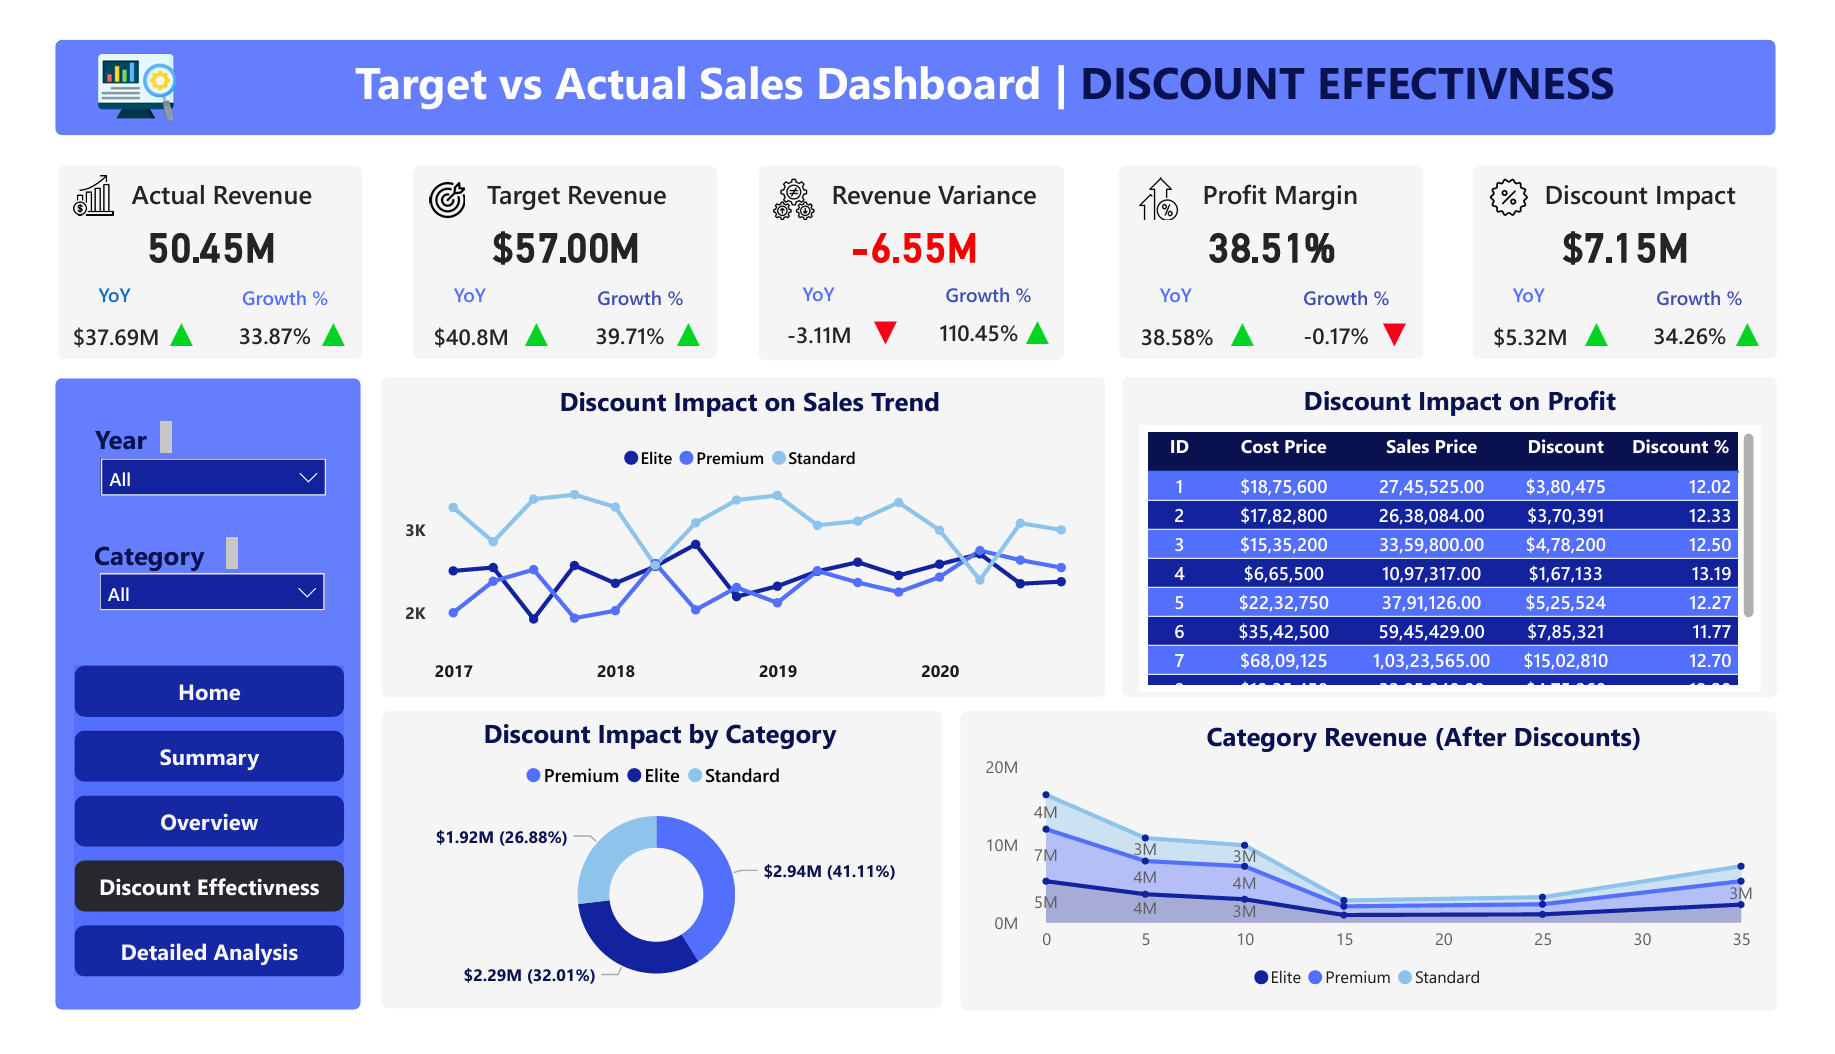

The dashboard page shown, as its layout file describes it:
{"tool":"powerbi","page":{"name":"Discount Effectivness","canvas":[1280,720],"ordinal":3},"visuals":[{"type":"shape","box":[15.9,7.2,1245.1,69.3],"z":0},{"type":"shape","box":[18.2,98.1,220,140],"z":0,"group":"g1"},{"type":"shape","box":[275,98.1,220,140],"z":0,"group":"g2"},{"type":"shape","box":[785.8,98.1,220,140],"z":0,"group":"g3"},{"type":"card","fields":{"Values":["Calculation_col.Actual Sales"]},"box":[54.3,132.7,148.6,46.2],"z":1000,"group":"g1"},{"type":"card","fields":{"Values":["Calculation_col.Target Sales"]},"box":[311.1,132.7,148.6,46.2],"z":1000,"group":"g2"},{"type":"card","fields":{"Values":["Calculation_col.Profit Margin"]},"box":[821.9,132.7,148.6,46.2],"z":1000,"group":"g3"},{"type":"shape","box":[16.2,252.1,220.7,457.4],"z":1000},{"type":"textbox","box":[62.9,101,147.2,34.6],"z":2000,"group":"g1"},{"type":"textbox","box":[319.7,101,147.2,34.6],"z":2000,"group":"g2"},{"type":"textbox","box":[829.1,101,147.2,34.6],"z":2000,"group":"g3"},{"type":"textbox","box":[30.3,277.9,75,34.6],"z":2000},{"type":"card","fields":{"Values":["Calculation_col.YoY Sales"]},"box":[18.2,209.2,83.7,30.3],"z":3000,"group":"g1"},{"type":"card","fields":{"Values":["Calculation_col.YoY Target Sales"]},"box":[275,209.2,83.7,30.3],"z":3000,"group":"g2"},{"type":"card","fields":{"Values":["Calculation_col.YoY Profit M"]},"box":[785.8,209.2,83.7,30.3],"z":3000,"group":"g3"},{"type":"textbox","box":[23.1,361.7,129.8,34.6],"z":3000},{"type":"shape","box":[1041.7,98.1,220,140],"z":4000},{"type":"card","fields":{"Values":["Calculation_col.YoY Growth Sales %"]},"box":[133.6,209.2,83.7,27.4],"z":4000,"group":"g1"},{"type":"card","fields":{"Values":["Calculation_col.YoY Target Growth Sales %"]},"box":[390.4,209.2,83.7,27.4],"z":4000,"group":"g2"},{"type":"card","fields":{"Values":["Calculation_col.YoY profit m growth %"]},"box":[901.2,209.2,83.7,27.4],"z":4000,"group":"g3"},{"type":"textbox","box":[19.6,177.5,79.4,31.7],"z":5000,"group":"g1"},{"type":"textbox","box":[276.4,177.5,79.4,31.7],"z":5000,"group":"g2"},{"type":"textbox","box":[787.2,177.5,79.4,31.7],"z":5000,"group":"g3"},{"type":"shape","box":[670.9,493.4,591.5,216.4],"z":5000},{"type":"textbox","box":[137.9,178.9,89.5,31.7],"z":6000,"group":"g1"},{"type":"textbox","box":[394.7,178.9,89.5,31.7],"z":6000,"group":"g2"},{"type":"textbox","box":[905.5,178.9,89.5,31.7],"z":6000,"group":"g3"},{"type":"shape","box":[252.5,251,523.7,232.3],"z":6000},{"type":"shape","box":[525.2,98.1,220.7,141.4],"z":7000},{"type":"card","fields":{"Values":["Calculation_col.Sales_icon"]},"box":[86,203.4,43.3,34.6],"z":7000,"group":"g1"},{"type":"card","fields":{"Values":["Calculation_col.Target 1_icon"]},"box":[342.8,203.4,43.3,34.6],"z":7000,"group":"g2"},{"type":"card","fields":{"Values":["Calculation_col.PM YoY 1"]},"box":[853.6,203.4,43.3,34.6],"z":7000,"group":"g3"},{"type":"card","fields":{"Values":["Calculation_col.Discount Impact"]},"box":[1077.7,132.7,148.6,46.2],"z":8000},{"type":"card","fields":{"Values":["Calculation_col.Sales_2 icon"]},"box":[195.7,203.4,43.3,34.6],"z":8000,"group":"g1"},{"type":"card","fields":{"Values":["Calculation_col.Target 2_icon"]},"box":[452.5,203.4,43.3,34.6],"z":8000,"group":"g2"},{"type":"card","fields":{"Values":["Calculation_col.PM YoY 2"]},"box":[963.3,203.4,43.3,34.6],"z":8000,"group":"g3"},{"type":"textbox","box":[228,10.1,1051.8,73.6],"z":9000},{"type":"card","fields":{"Values":["Calculation_col.Sales Varience"]},"box":[562.7,132.7,148.6,46.2],"z":10000},{"type":"textbox","box":[559.8,101,178.9,39],"z":11000},{"type":"textbox","box":[1082.1,101,161.6,34.6],"z":12000},{"type":"card","fields":{"Values":["Calculation_col.YoY Sales Variance"]},"box":[527.2,207.3,83.7,30.3],"z":13000},{"type":"card","fields":{"Values":["Calculation_col.YoY Discount"]},"box":[1041.7,209.2,83.7,30.3],"z":14000},{"type":"group","id":"g1","title":"Group 1","box":[18.2,98.1,220.7,141.4],"z":15000},{"type":"card","fields":{"Values":["Calculation_col.YoY Discount Growth %"]},"box":[1157.1,209.2,83.7,27.4],"z":16000},{"type":"card","fields":{"Values":["Calculation_col.YoY Sales Variance %"]},"box":[642.6,207.3,83.7,27.4],"z":17000},{"type":"textbox","box":[1043.1,177.5,79.4,31.7],"z":18000},{"type":"group","id":"g2","title":"Group 1","box":[275,98.1,220.7,141.4],"z":19000},{"type":"textbox","box":[1161.4,178.9,89.5,31.7],"z":20000},{"type":"textbox","box":[528.6,175.6,79.4,31.7],"z":21000},{"type":"card","fields":{"Values":["Calculation_col.Discount 1_icon"]},"box":[1109.5,203.4,43.3,34.6],"z":22000},{"type":"card","fields":{"Values":["Calculation_col.Discount 2_icon"]},"box":[1219.1,203.4,43.3,34.6],"z":23000},{"type":"textbox","box":[646.9,177,89.5,31.7],"z":24000},{"type":"card","fields":{"Values":["Calculation_col.Variance 2_icon"]},"box":[704.6,201.5,43.3,34.6],"z":25000},{"type":"card","fields":{"Values":["Calculation_col.VAriance 1_icon"]},"box":[595,201.5,43.3,34.6],"z":26000},{"type":"group","id":"g3","title":"Group 1","box":[785.8,98.1,220.7,141.4],"z":27000},{"type":"shape","box":[252.5,493.4,405.4,215],"z":28000},{"type":"pageNavigator","box":[30.3,460.2,194.8,225.1],"z":29000},{"type":"slicer","fields":{"Values":["Dim_product_detail.Product_Category"]},"box":[37.5,383.3,183.2,41.8],"z":30000},{"type":"slicer","fields":{"Values":["Calender.Year"]},"box":[39,300.3,183.2,41.8],"z":31000},{"type":"image","box":[1046,101,43.3,40.4],"z":32000},{"type":"image","box":[789.2,102.4,50.5,40.4],"z":33000},{"type":"image","box":[14.4,99.6,57.7,39],"z":34000},{"type":"image","box":[279.9,105.3,39,36.1],"z":35000},{"type":"image","box":[526.6,102.4,47.6,40.4],"z":36000},{"type":"stackedAreaChart","fields":{"Category":["fact_actual_sales.discount_percent"],"Y":["Calculation_col.Actual Sales"],"Series":["Dim_product_detail.Product_Category"]},"box":[683.9,519.4,567,184.7],"z":37000},{"type":"lineChart","fields":{"Series":["Dim_product_detail.Product_Category"],"Category":["Calender.Date.Variation.Date Hierarchy.Year","Calender.Date.Variation.Date Hierarchy.Quarter"],"Y":["Sum(fact_actual_sales.discount_percent)"]},"box":[264,290,499.2,191.9],"z":38000},{"type":"shape","box":[787.7,251,474.7,232.3],"z":39000},{"type":"tableEx","fields":{"Values":["Dim_product_detail.Product_Id","Calculation_col.Actual Cost","Calculation_col.Actual Sales","Calculation_col.Discount Impact","Calculation_col.Avg Discount %"]},"box":[800.7,285.7,450.1,193.3],"z":40000},{"type":"donutChart","fields":{"Y":["Calculation_col.Discount Impact"],"Category":["Dim_product_detail.Product_Category"]},"box":[262.6,519.4,376.6,184.7],"z":41000},{"type":"textbox","box":[326.1,251,385.2,40.4],"z":42000},{"type":"textbox","box":[839.7,249.6,385.2,40.4],"z":43000},{"type":"textbox","box":[261.1,490.5,385.2,40.4],"z":44000},{"type":"textbox","box":[813.7,493.4,385.2,40.4],"z":45000},{"type":"image","box":[0,7.2,150,69.3],"z":47000}]}

Visuals, with their boxes in screenshot pixels (x1, y1, x2, y2), scaled from the page's 1280x720 canvas onto the 1835x1054 screenshot:
shape: Rect(23, 11, 1808, 112)
shape: Rect(26, 144, 341, 349)
shape: Rect(394, 144, 710, 349)
shape: Rect(1127, 144, 1442, 349)
card - Calculation_col.Actual Sales: Rect(78, 194, 291, 262)
card - Calculation_col.Target Sales: Rect(446, 194, 659, 262)
card - Calculation_col.Profit Margin: Rect(1178, 194, 1391, 262)
shape: Rect(23, 369, 340, 1039)
textbox: Rect(90, 148, 301, 199)
textbox: Rect(458, 148, 669, 199)
textbox: Rect(1189, 148, 1400, 199)
textbox: Rect(43, 407, 151, 457)
card - Calculation_col.YoY Sales: Rect(26, 306, 146, 351)
card - Calculation_col.YoY Target Sales: Rect(394, 306, 514, 351)
card - Calculation_col.YoY Profit M: Rect(1127, 306, 1247, 351)
textbox: Rect(33, 529, 219, 580)
shape: Rect(1493, 144, 1809, 349)
card - Calculation_col.YoY Growth Sales %: Rect(192, 306, 312, 346)
card - Calculation_col.YoY Target Growth Sales %: Rect(560, 306, 680, 346)
card - Calculation_col.YoY profit m growth %: Rect(1292, 306, 1412, 346)
textbox: Rect(28, 260, 142, 306)
textbox: Rect(396, 260, 510, 306)
textbox: Rect(1129, 260, 1242, 306)
shape: Rect(962, 722, 1810, 1039)
textbox: Rect(198, 262, 326, 308)
textbox: Rect(566, 262, 694, 308)
textbox: Rect(1298, 262, 1426, 308)
shape: Rect(362, 367, 1113, 707)
shape: Rect(753, 144, 1069, 351)
card - Calculation_col.Sales_icon: Rect(123, 298, 185, 348)
card - Calculation_col.Target 1_icon: Rect(491, 298, 554, 348)
card - Calculation_col.PM YoY 1: Rect(1224, 298, 1286, 348)
card - Calculation_col.Discount Impact: Rect(1545, 194, 1758, 262)
card - Calculation_col.Sales_2 icon: Rect(281, 298, 343, 348)
card - Calculation_col.Target 2_icon: Rect(649, 298, 711, 348)
card - Calculation_col.PM YoY 2: Rect(1381, 298, 1443, 348)
textbox: Rect(327, 15, 1834, 123)
card - Calculation_col.Sales Varience: Rect(807, 194, 1020, 262)
textbox: Rect(803, 148, 1059, 205)
textbox: Rect(1551, 148, 1783, 199)
card - Calculation_col.YoY Sales Variance: Rect(756, 303, 876, 348)
card - Calculation_col.YoY Discount: Rect(1493, 306, 1613, 351)
"Group 1" group: Rect(26, 144, 342, 351)
card - Calculation_col.YoY Discount Growth %: Rect(1659, 306, 1779, 346)
card - Calculation_col.YoY Sales Variance %: Rect(921, 303, 1041, 344)
textbox: Rect(1495, 260, 1609, 306)
"Group 1" group: Rect(394, 144, 711, 351)
textbox: Rect(1665, 262, 1793, 308)
textbox: Rect(758, 257, 872, 303)
card - Calculation_col.Discount 1_icon: Rect(1591, 298, 1653, 348)
card - Calculation_col.Discount 2_icon: Rect(1748, 298, 1810, 348)
textbox: Rect(927, 259, 1056, 306)
card - Calculation_col.Variance 2_icon: Rect(1010, 295, 1072, 346)
card - Calculation_col.VAriance 1_icon: Rect(853, 295, 915, 346)
"Group 1" group: Rect(1127, 144, 1443, 351)
shape: Rect(362, 722, 943, 1037)
pageNavigator: Rect(43, 674, 323, 1003)
slicer - Dim_product_detail.Product_Category: Rect(54, 561, 316, 622)
slicer - Calender.Year: Rect(56, 440, 319, 501)
image: Rect(1500, 148, 1562, 207)
image: Rect(1131, 150, 1204, 209)
image: Rect(21, 146, 103, 203)
image: Rect(401, 154, 457, 207)
image: Rect(755, 150, 823, 209)
stackedAreaChart - fact_actual_sales.discount_percent x Calculation_col.Actual Sales: Rect(980, 760, 1793, 1031)
lineChart - Dim_product_detail.Product_Category x Calender.Date.Variation.Date Hierarchy.Year: Rect(378, 425, 1094, 705)
shape: Rect(1129, 367, 1810, 707)
tableEx - Dim_product_detail.Product_Id x Calculation_col.Actual Cost: Rect(1148, 418, 1793, 701)
donutChart - Calculation_col.Discount Impact x Dim_product_detail.Product_Category: Rect(376, 760, 916, 1031)
textbox: Rect(467, 367, 1020, 427)
textbox: Rect(1204, 365, 1756, 425)
textbox: Rect(374, 718, 927, 777)
textbox: Rect(1167, 722, 1719, 781)
image: Rect(0, 11, 215, 112)
